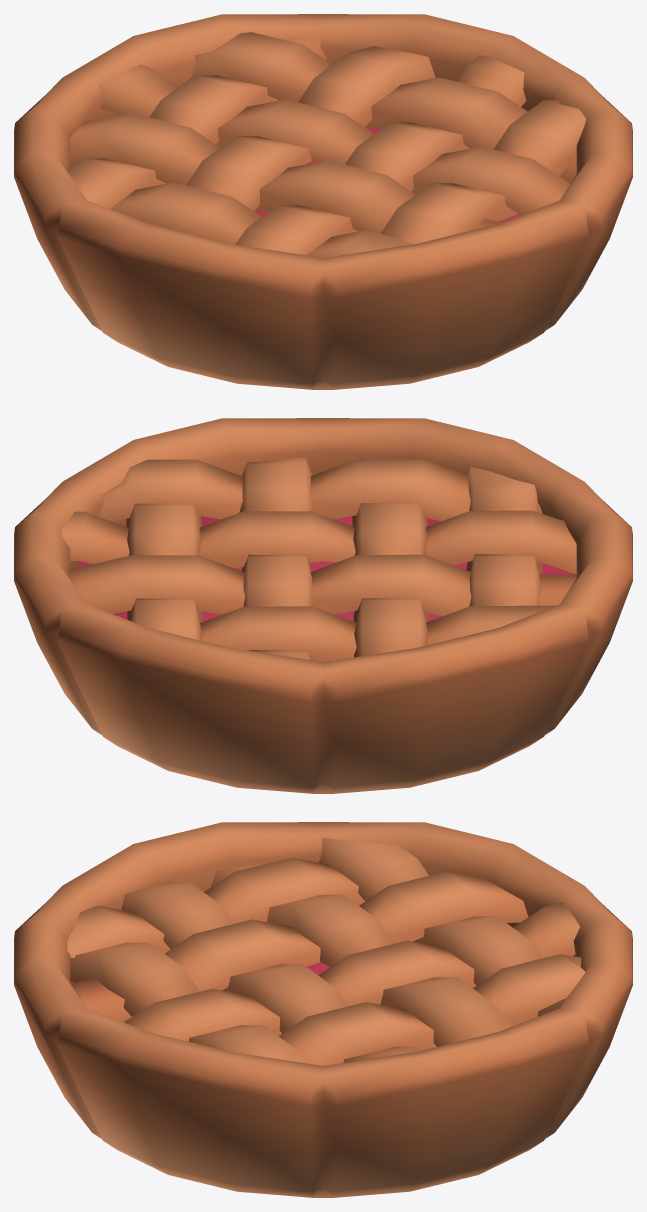
Rendered from PieCherry-transformed.glb.
3 renders of one model, top to bottom at view 1: azimuth 30°, elevation 25°; view 2: azimuth 150°, elevation 25°; view 3: azimuth 270°, elevation 25°, orthographic.
Visible parts, largest first — view 1: pie_cherry; view 2: pie_cherry; view 3: pie_cherry.
Boxes of the visible parts, x1,y1,x2,y2 form: pie_cherry: (14,14,632,389); pie_cherry: (14,418,632,793); pie_cherry: (14,822,632,1197).
Bounding box in the file's own units: 1.16 × 0.3153 × 1.14.
Materials: 1 (1 with a texture image).
